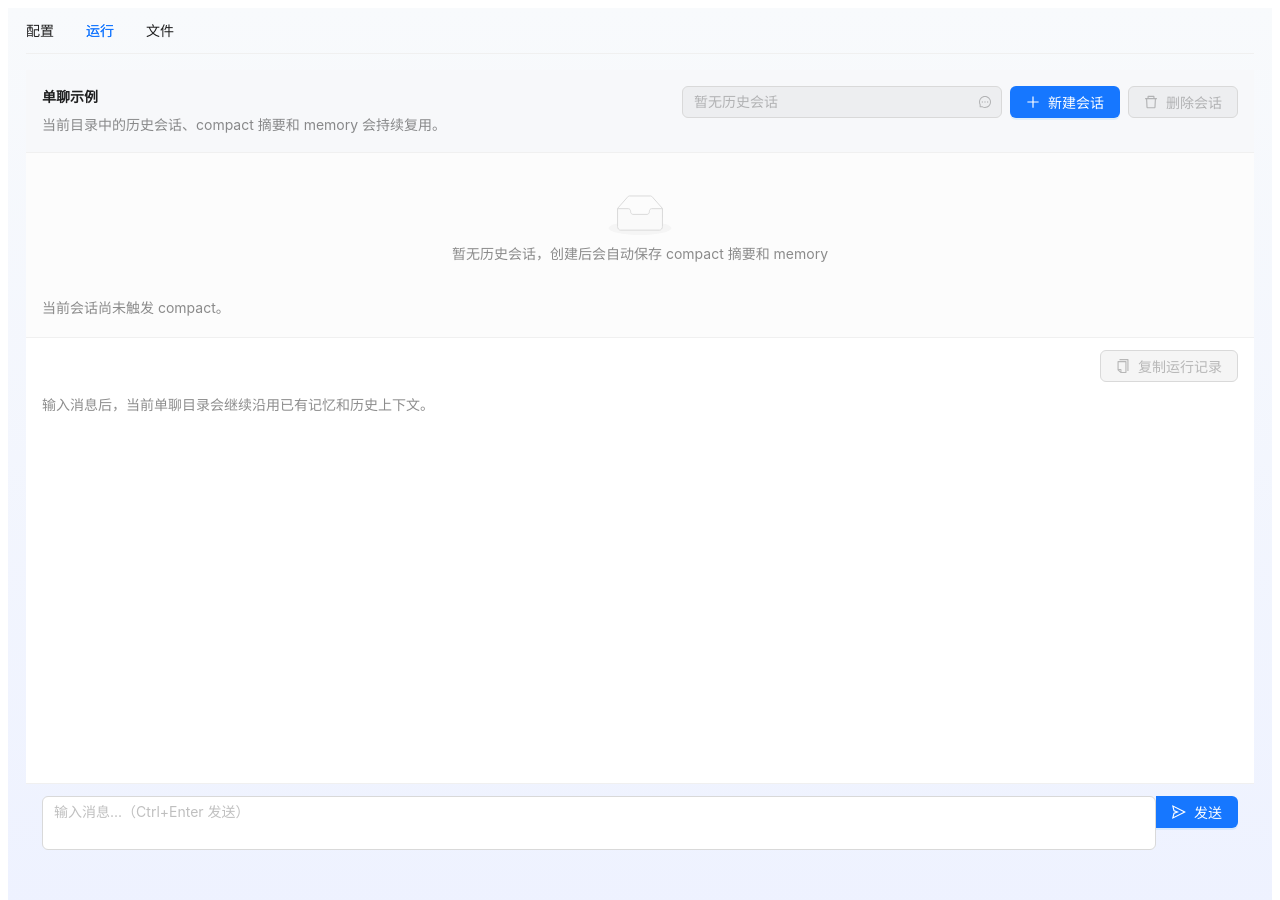
Scenario: Dashboard › still exposes configuration tab for chat workspace
This screenshot has width=1280, height=900.
Click the tab "配置". click: (40,31)
box: [26,20,54,42]
(page scrolled)
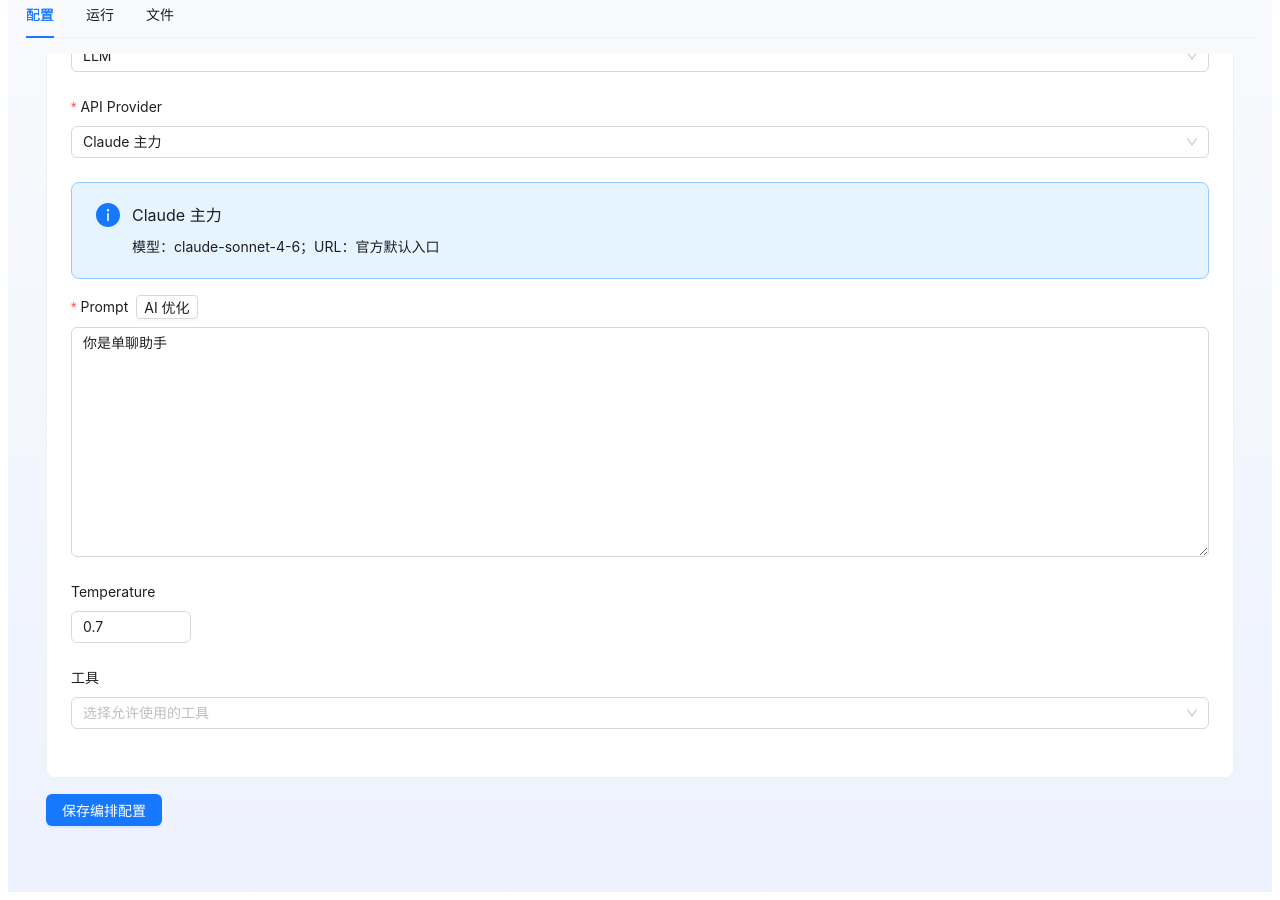
Expected: the button "保存编排配置" is shown, [46,794,162,826]
